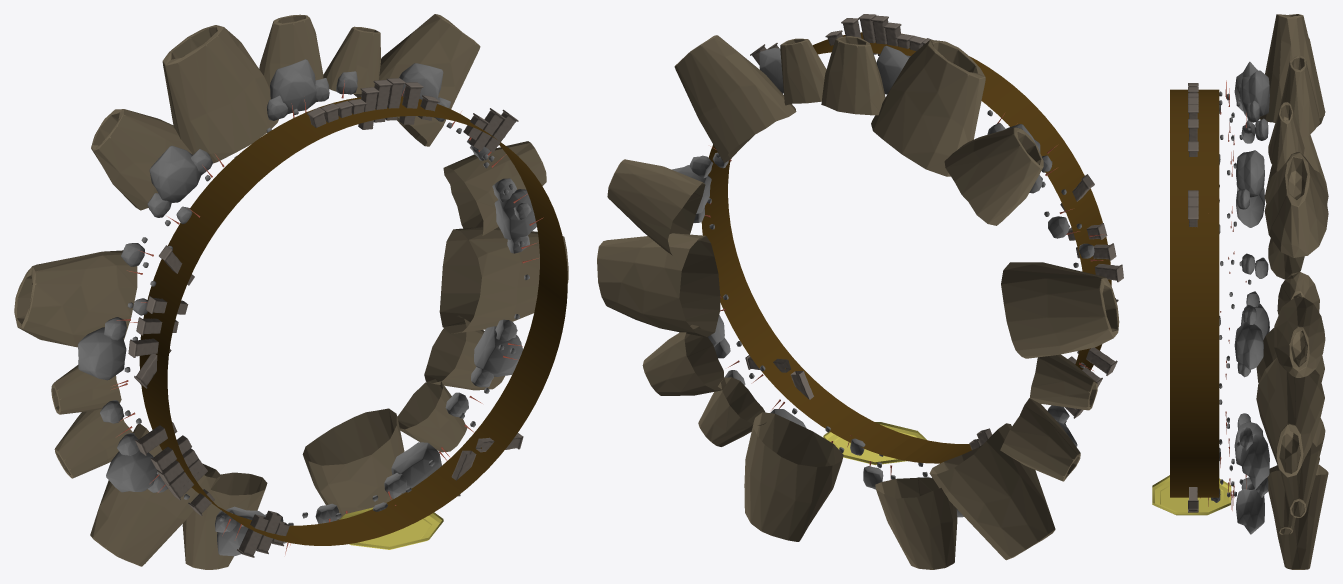
File: MagmaLevel.fbx
3 views of the same model, side by side, from view 1: azimuth 30°, elevation 25°; view 2: azimuth 150°, elevation 25°; view 3: azimuth 270°, elevation 25° (orthographic). The views are drawn at different scales.
Visible parts, largest first — view 1: GroundPlane, Volcanoes_BG1, Volcanoes_BG2, Volcanoes_BG, Boulders2, Boulders1, Boulders, Platform_Start; view 2: Volcanoes_BG2, Volcanoes_BG1, Volcanoes_BG, GroundPlane, Boulders2, Boulders1, Boulders, Platform_Start; view 3: GroundPlane, Volcanoes_BG2, Volcanoes_BG1, Boulders2, Boulders1, Volcanoes_BG, Boulders, Platform_Start.
Part boxes in pixels (bbox=[...]): GroundPlane: bbox=[139, 96, 567, 545]; Volcanoes_BG1: bbox=[91, 14, 480, 210]; Volcanoes_BG2: bbox=[302, 141, 568, 520]; Volcanoes_BG: bbox=[14, 250, 267, 569]; Boulders2: bbox=[315, 162, 536, 523]; Boulders1: bbox=[141, 59, 494, 249]; Boulders: bbox=[78, 243, 307, 556]; Platform_Start: bbox=[339, 507, 443, 549]; Volcanoes_BG2: bbox=[597, 159, 843, 541]; Volcanoes_BG1: bbox=[674, 35, 1043, 225]; Volcanoes_BG: bbox=[875, 262, 1119, 569]; GroundPlane: bbox=[701, 32, 1111, 463]; Boulders2: bbox=[672, 152, 883, 489]; Boulders1: bbox=[759, 45, 1066, 216]; Boulders: bbox=[890, 216, 1094, 517]; Platform_Start: bbox=[823, 422, 926, 465]; GroundPlane: bbox=[1170, 89, 1219, 497]; Volcanoes_BG2: bbox=[1256, 297, 1328, 569]; Volcanoes_BG1: bbox=[1259, 14, 1328, 257]; Boulders2: bbox=[1211, 279, 1269, 534]; Boulders1: bbox=[1219, 61, 1269, 274]; Volcanoes_BG: bbox=[1256, 134, 1328, 455]; Boulders: bbox=[1219, 120, 1269, 465]; Platform_Start: bbox=[1152, 475, 1231, 515].
Bounding box in the file's own units: 474 × 463 × 152.
